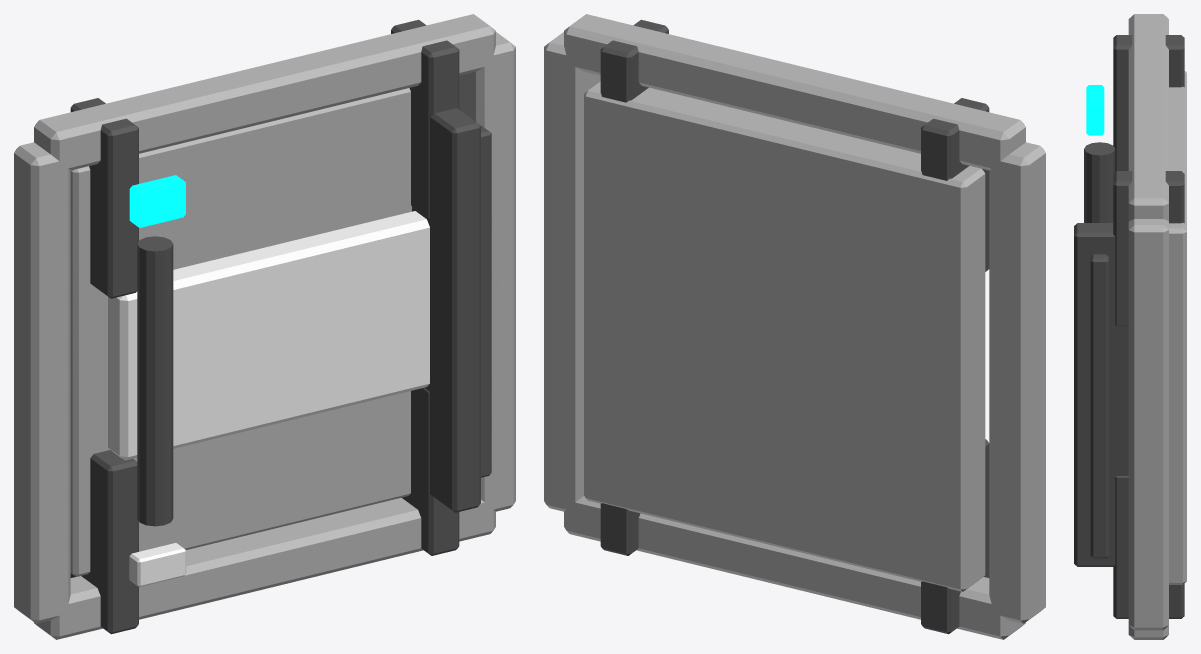
File: hull_breach_seal_point.glb
3 renders of one model, left to right at view 1: azimuth 30°, elevation 25°; view 2: azimuth 150°, elevation 25°; view 3: azimuth 270°, elevation 25°, orthographic. The views are drawn at different scales.
Visible parts, largest first — view 1: FocusedNine_hull_breach_seal_point_mounting_plate, FocusedNine_hull_breach_seal_point_orange_face, FocusedNine_hull_breach_seal_point_clamp_frame_left, FocusedNine_hull_breach_seal_point_clamp_frame_top, FocusedNine_hull_breach_seal_point_conduit, FocusedNine_hull_breach_seal_point_clamp_frame_bottom, FocusedNine_hull_breach_seal_point_clamp_frame_right, FocusedNine_hull_breach_seal_point_hose_vertical, FocusedNine_hull_breach_seal_point_clamp_arm_00, FocusedNine_hull_breach_seal_point_clamp_arm_02, FocusedNine_hull_breach_seal_point_clamp_arm_03, FocusedNine_hull_breach_seal_point_clamp_arm_01 (+3 smaller); view 2: FocusedNine_hull_breach_seal_point_mounting_plate, FocusedNine_hull_breach_seal_point_clamp_frame_left, FocusedNine_hull_breach_seal_point_clamp_frame_top, FocusedNine_hull_breach_seal_point_clamp_frame_right, FocusedNine_hull_breach_seal_point_clamp_frame_bottom, FocusedNine_hull_breach_seal_point_clamp_arm_02, FocusedNine_hull_breach_seal_point_clamp_arm_03, FocusedNine_hull_breach_seal_point_clamp_arm_00, FocusedNine_hull_breach_seal_point_clamp_arm_01; view 3: FocusedNine_hull_breach_seal_point_clamp_frame_right, FocusedNine_hull_breach_seal_point_conduit, FocusedNine_hull_breach_seal_point_mounting_plate, FocusedNine_hull_breach_seal_point_clamp_frame_top, FocusedNine_hull_breach_seal_point_cable_run, FocusedNine_hull_breach_seal_point_clamp_arm_03, FocusedNine_hull_breach_seal_point_clamp_arm_02, FocusedNine_hull_breach_seal_point_clamp_arm_01, FocusedNine_hull_breach_seal_point_hose_vertical, FocusedNine_hull_breach_seal_point_status_indicator, FocusedNine_hull_breach_seal_point_clamp_frame_bottom.
Boxes of the visible parts, x1,y1,x2,y2 form: FocusedNine_hull_breach_seal_point_mounting_plate: (70, 88, 411, 576); FocusedNine_hull_breach_seal_point_orange_face: (108, 211, 429, 460); FocusedNine_hull_breach_seal_point_clamp_frame_left: (14, 142, 70, 623); FocusedNine_hull_breach_seal_point_clamp_frame_top: (34, 14, 495, 170); FocusedNine_hull_breach_seal_point_conduit: (412, 108, 480, 512); FocusedNine_hull_breach_seal_point_clamp_frame_bottom: (34, 497, 495, 639); FocusedNine_hull_breach_seal_point_clamp_frame_right: (459, 32, 515, 511); FocusedNine_hull_breach_seal_point_hose_vertical: (137, 236, 173, 526); FocusedNine_hull_breach_seal_point_clamp_arm_00: (70, 450, 138, 634); FocusedNine_hull_breach_seal_point_clamp_arm_02: (70, 98, 138, 298); FocusedNine_hull_breach_seal_point_clamp_arm_03: (391, 19, 459, 218); FocusedNine_hull_breach_seal_point_clamp_arm_01: (402, 387, 459, 555); FocusedNine_hull_breach_seal_point_mounting_plate: (584, 81, 985, 591); FocusedNine_hull_breach_seal_point_clamp_frame_left: (989, 142, 1045, 623); FocusedNine_hull_breach_seal_point_clamp_frame_top: (564, 14, 1025, 170); FocusedNine_hull_breach_seal_point_clamp_frame_right: (544, 32, 600, 511); FocusedNine_hull_breach_seal_point_clamp_frame_bottom: (564, 496, 1025, 639); FocusedNine_hull_breach_seal_point_clamp_arm_02: (921, 98, 989, 271); FocusedNine_hull_breach_seal_point_clamp_arm_03: (600, 19, 668, 102); FocusedNine_hull_breach_seal_point_clamp_arm_00: (921, 439, 989, 634); FocusedNine_hull_breach_seal_point_clamp_arm_01: (600, 503, 640, 555); FocusedNine_hull_breach_seal_point_clamp_frame_right: (1128, 219, 1168, 630); FocusedNine_hull_breach_seal_point_conduit: (1074, 223, 1128, 566); FocusedNine_hull_breach_seal_point_mounting_plate: (1169, 71, 1186, 584); FocusedNine_hull_breach_seal_point_clamp_frame_top: (1128, 14, 1168, 221); FocusedNine_hull_breach_seal_point_cable_run: (1090, 254, 1108, 558); FocusedNine_hull_breach_seal_point_clamp_arm_03: (1113, 171, 1184, 326); FocusedNine_hull_breach_seal_point_clamp_arm_02: (1113, 35, 1184, 171); FocusedNine_hull_breach_seal_point_clamp_arm_01: (1113, 476, 1184, 618); FocusedNine_hull_breach_seal_point_hose_vertical: (1084, 142, 1115, 222); FocusedNine_hull_breach_seal_point_status_indicator: (1086, 85, 1104, 135); FocusedNine_hull_breach_seal_point_clamp_frame_bottom: (1128, 625, 1168, 639).
Bounding box in the file's own units: 2.18 × 2.18 × 0.505.
